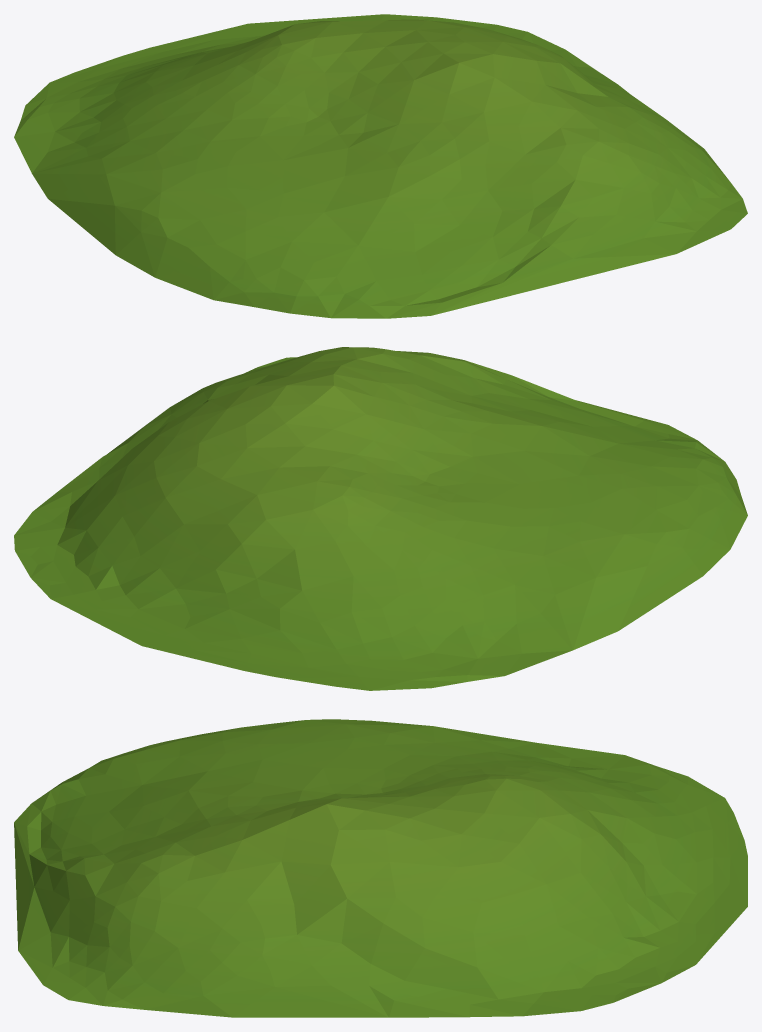
The model's file is Hill_04.fbx.
3 views of the same model, one above another, from view 1: azimuth 30°, elevation 25°; view 2: azimuth 150°, elevation 25°; view 3: azimuth 270°, elevation 25° (orthographic). The views are drawn at different scales.
Parts seen in each view (by area): view 1: Hill_04; view 2: Hill_04; view 3: Hill_04.
Part boxes in pixels (box(x1,y1,x2,y2)): Hill_04: box(14, 14, 747, 318); Hill_04: box(14, 347, 747, 690); Hill_04: box(14, 719, 747, 1017).
Size of the model in its own units: 5623 by 1009 by 6100.
